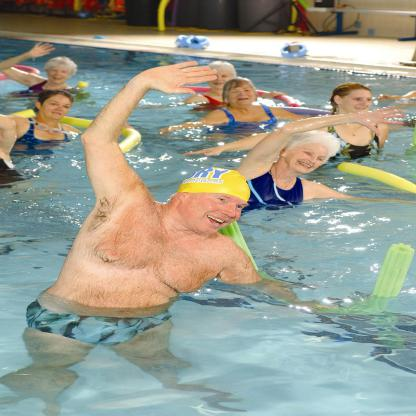face: (189, 183, 248, 235), (291, 141, 330, 176), (343, 89, 375, 115), (44, 97, 74, 121), (208, 68, 235, 91), (229, 86, 258, 107), (50, 63, 71, 85)
